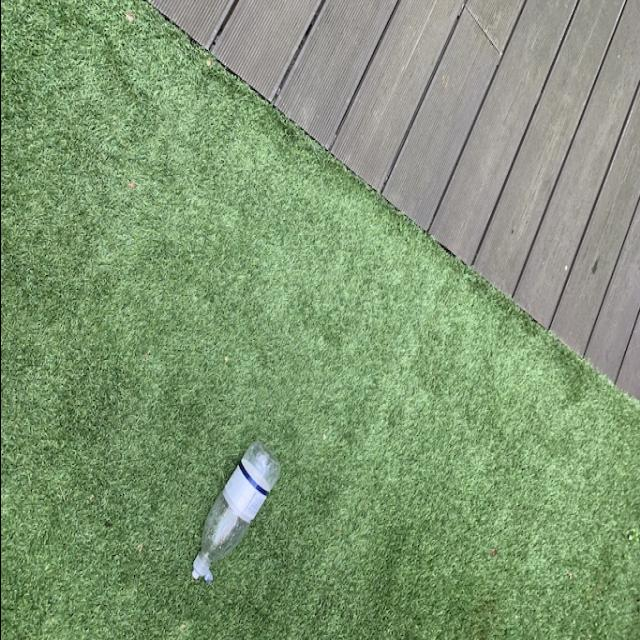PET: (190, 439, 280, 585)
